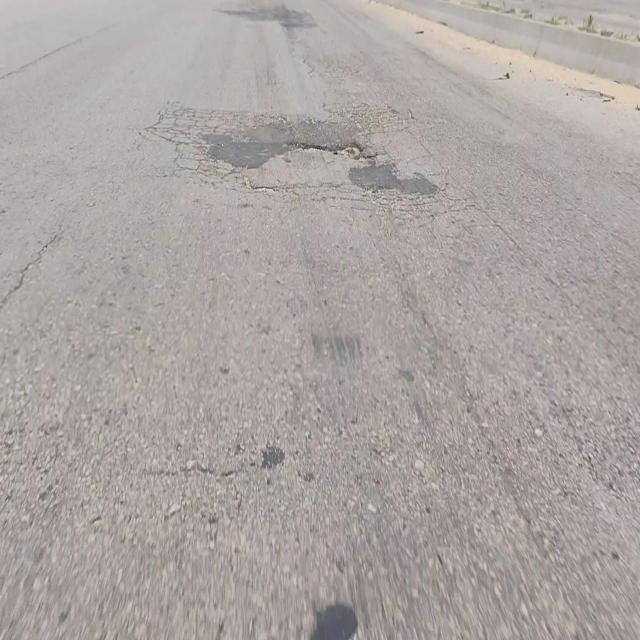Potholes: (290, 138, 377, 167)
